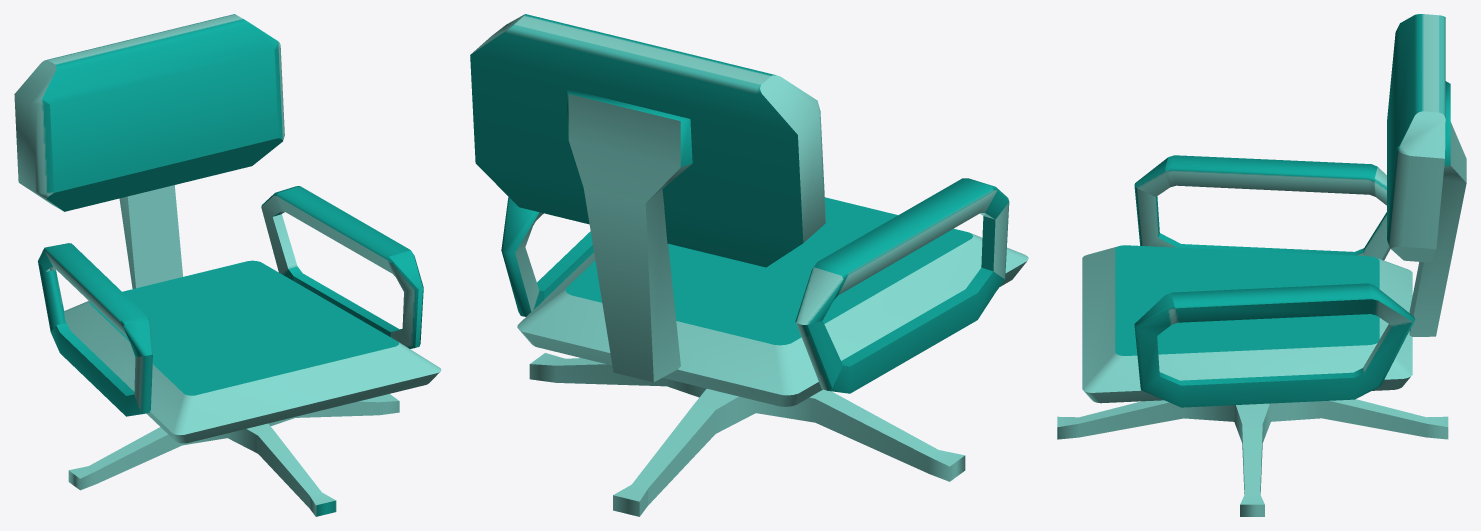
File: Kursi.FBX
The picture shows the model from 3 angles, left to right: view 1: azimuth 30°, elevation 25°; view 2: azimuth 150°, elevation 25°; view 3: azimuth 270°, elevation 25°; orthographic projection. The views are drawn at different scales.
Parts seen in each view (by area): view 1: Box008; view 2: Box008; view 3: Box008.
Boxes of the visible parts, x1,y1,x2,y2 form: Box008: [14, 14, 441, 516]; Box008: [470, 14, 1028, 516]; Box008: [1057, 14, 1466, 516].
Size of the model in its own units: 63.07 by 65.67 by 65.96.
